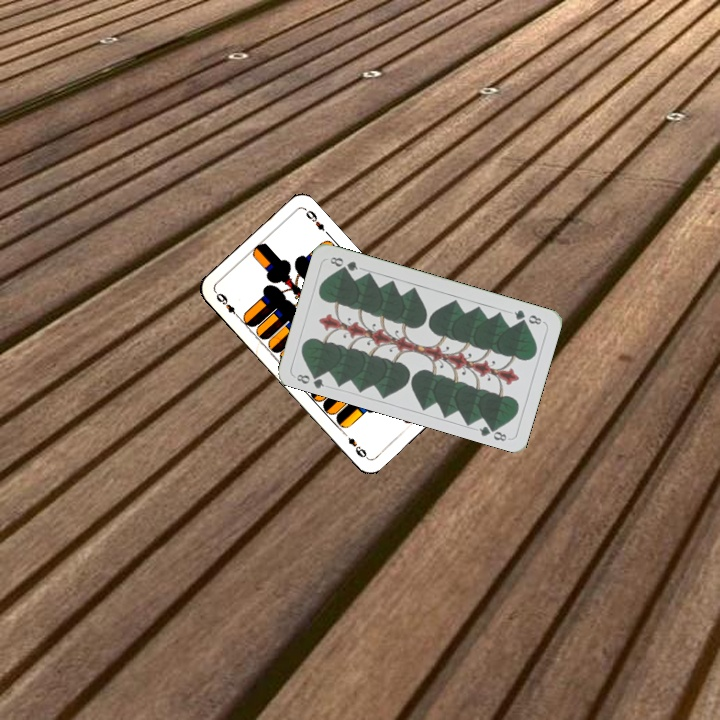E9: (211, 288, 242, 321)
G8: (291, 367, 327, 391), (510, 306, 546, 327)
